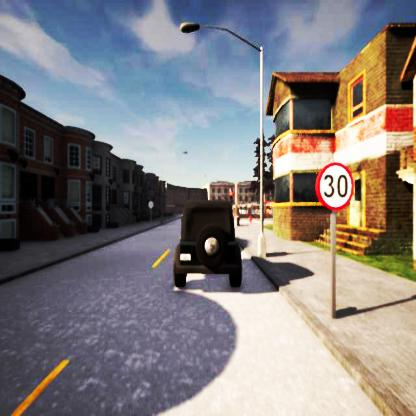vehicle: (174, 199, 241, 289)
